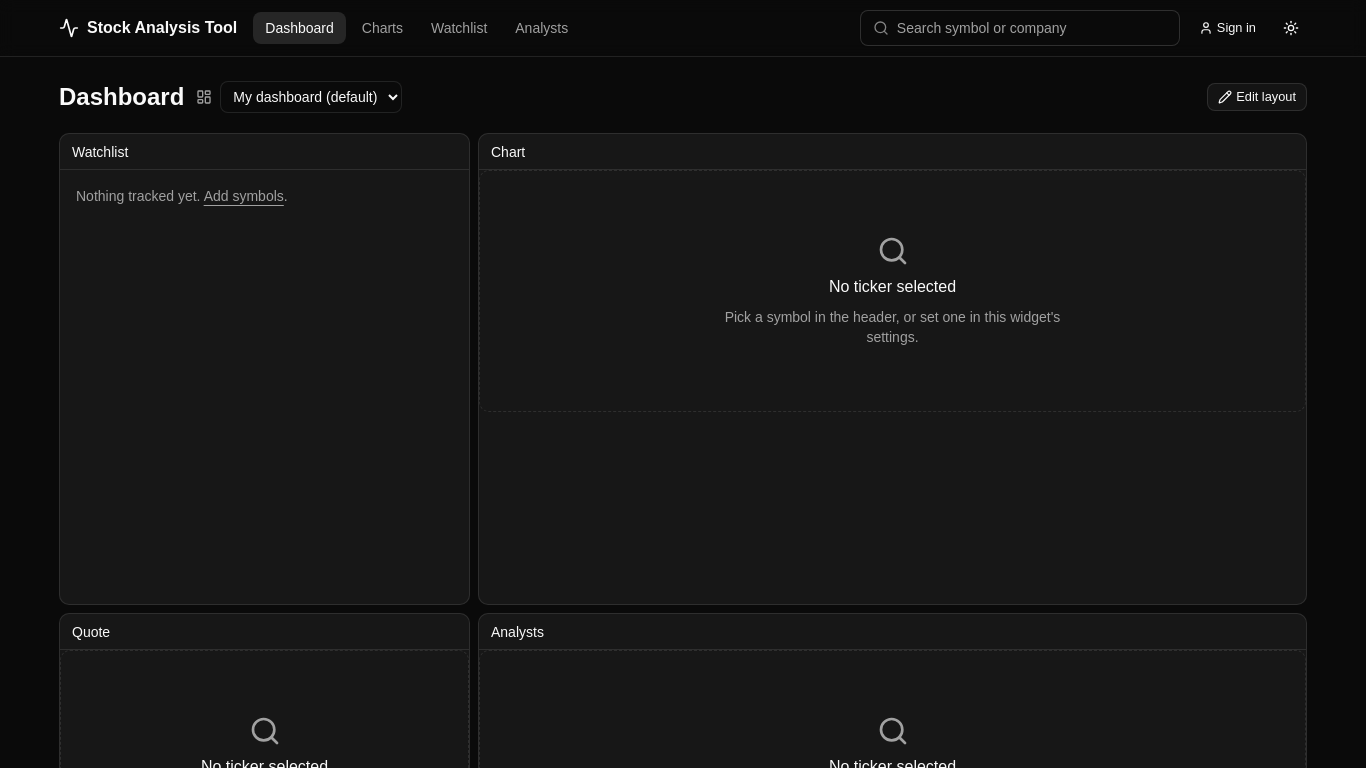
Test: ticker flow › selecting from search updates the URL-driven quote
This screenshot has width=1366, height=768.
Type "msft" into the dropdown labelled "Search symbol or company".
click(1032, 28); type("msft")  # box [897,18,1167,38]
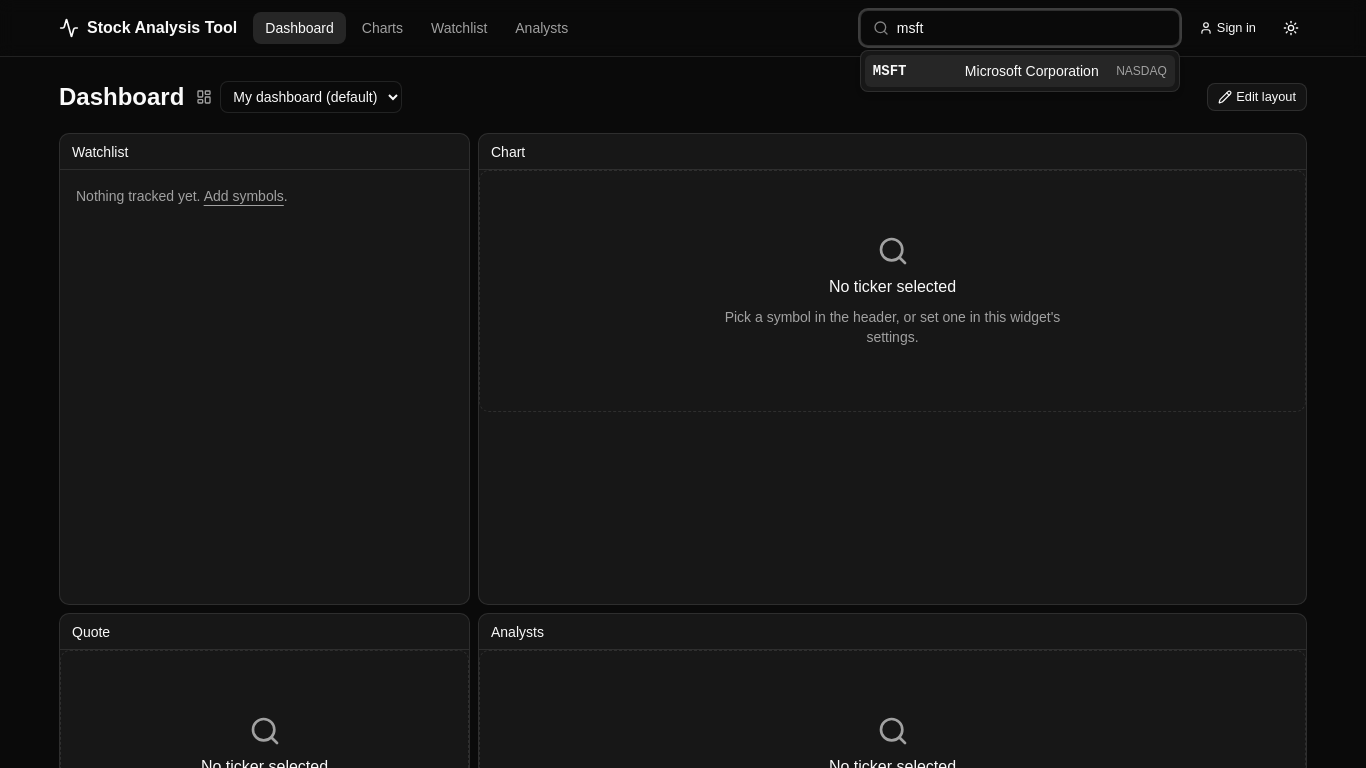
Click the option "MSFT Microsoft Corporation NASDAQ".
click(1020, 71)  # box [865,55,1175,87]
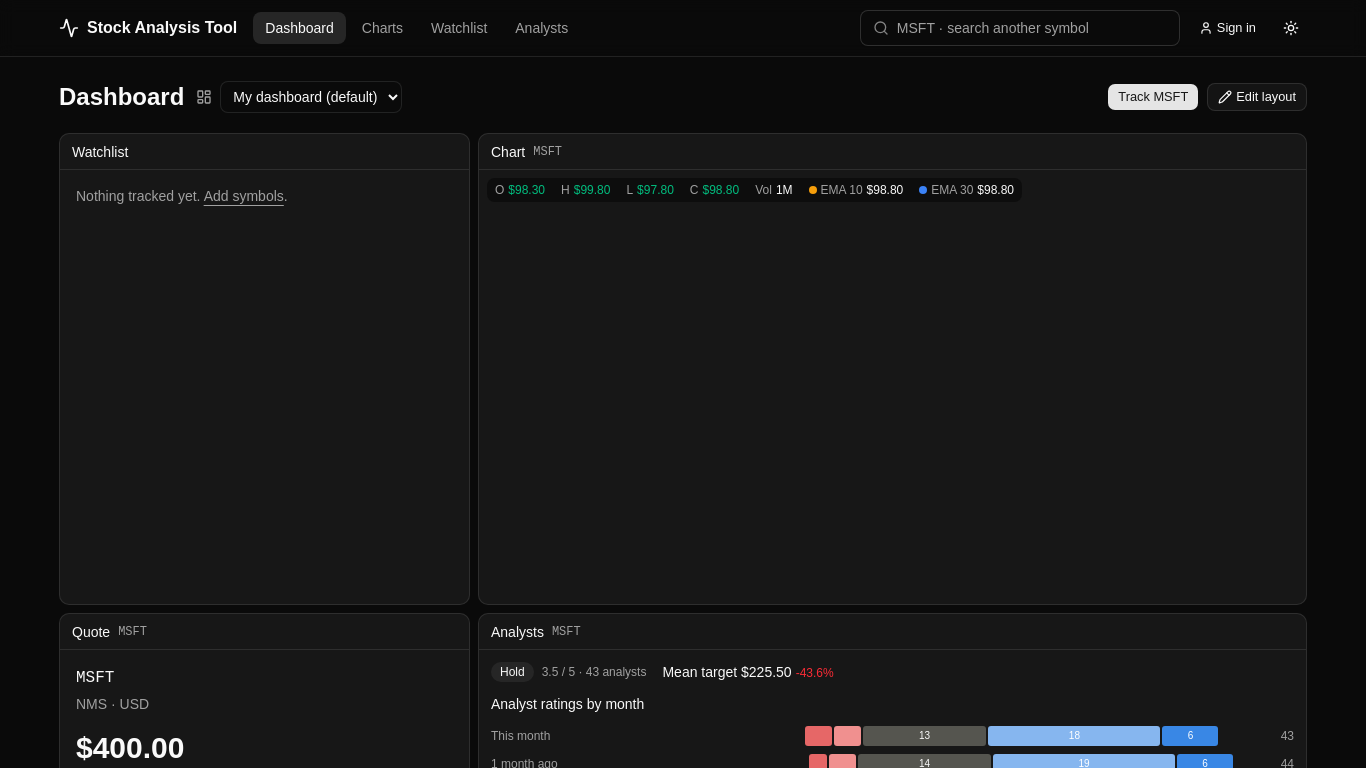
expect the text "$400.00" is shown: met, box [76,731,184,764]
